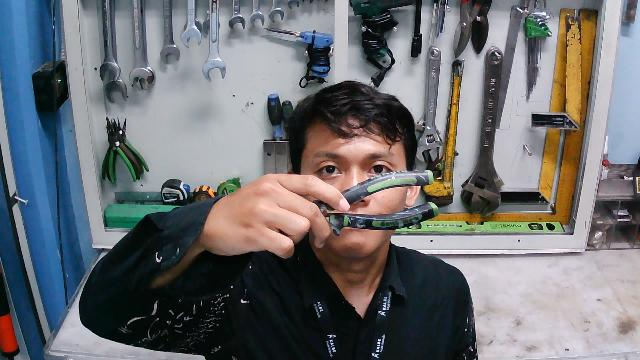tang_kombinasi: (305, 171, 441, 233)
